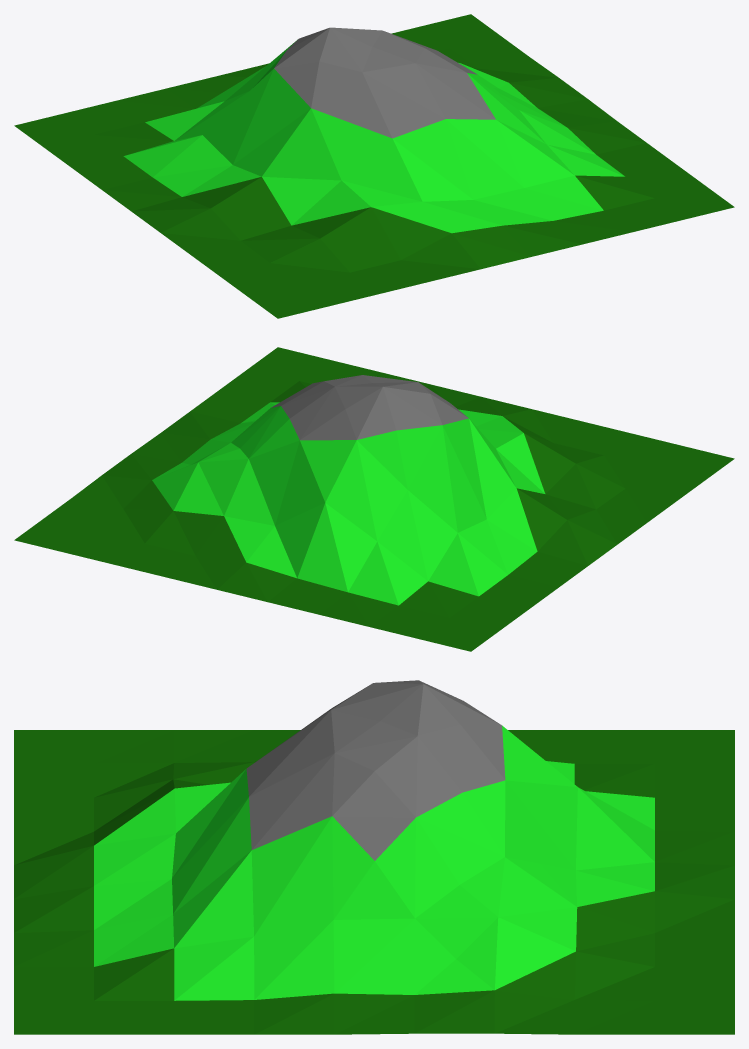
File: Hill1.fbx
3 views of the same model, one above another, from view 1: azimuth 30°, elevation 25°; view 2: azimuth 150°, elevation 25°; view 3: azimuth 270°, elevation 25° (orthographic). The views are drawn at different scales.
Visible parts, largest first — view 1: Hill1; view 2: Hill1; view 3: Hill1.
Part boxes in pixels (bbox=[...]): Hill1: bbox=[14, 14, 734, 318]; Hill1: bbox=[14, 347, 734, 651]; Hill1: bbox=[14, 680, 734, 1034].
Bounding box in the file's own units: 6000 × 1659 × 6000.
